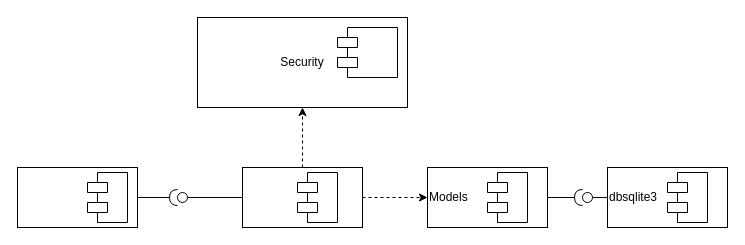
This 745x245 diagram has some shape labels left out. The shapes that lost their labels are listed below. From the top down, each one's box as (x1, y1, x2, y2) in pixels, then its label:
(16, 166, 138, 228): Templates
(242, 166, 362, 228): Views
